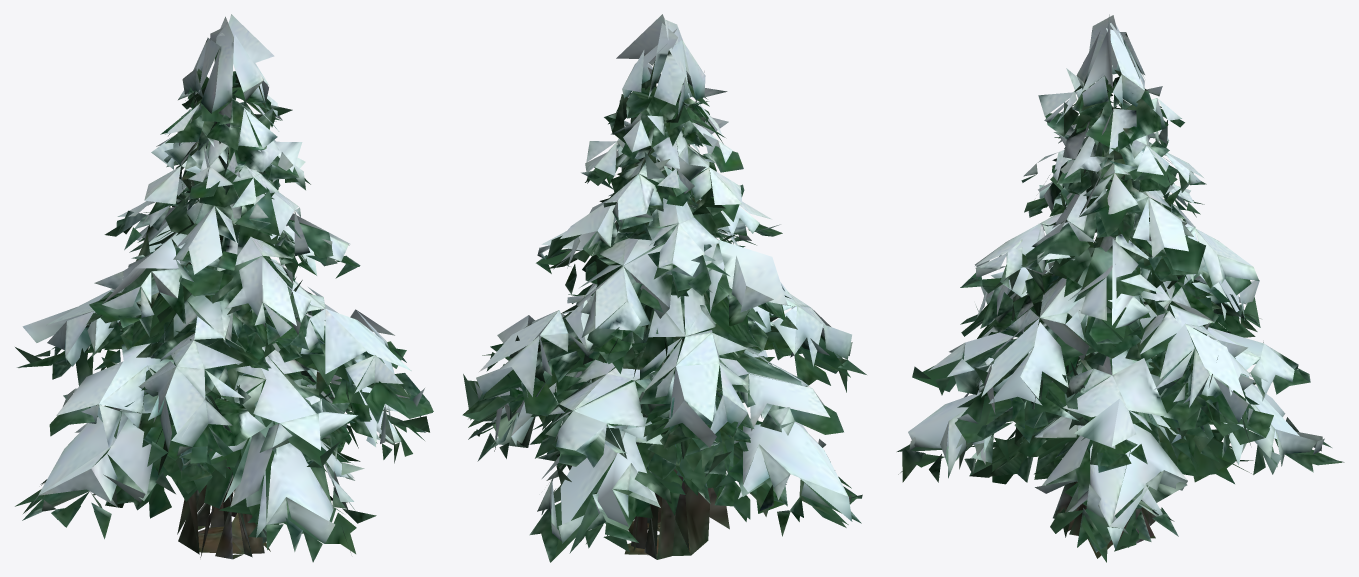
The model's file is pine.glb.
3 renders of one model, left to right at view 1: azimuth 30°, elevation 25°; view 2: azimuth 150°, elevation 25°; view 3: azimuth 270°, elevation 25°, orthographic. The views are drawn at different scales.
Visible parts, largest first — view 1: Mesh_0; view 2: Mesh_0; view 3: Mesh_0.
Boxes of the visible parts, x1,y1,x2,y2 form: Mesh_0: (15, 14, 433, 562); Mesh_0: (462, 14, 866, 562); Mesh_0: (897, 14, 1344, 562).
Size of the model in its own units: 1.53 by 1.96 by 1.51.
1 material, 1 textured.
